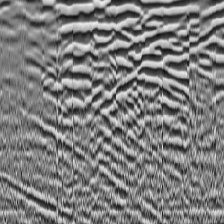cavities: (45, 1, 224, 124)
